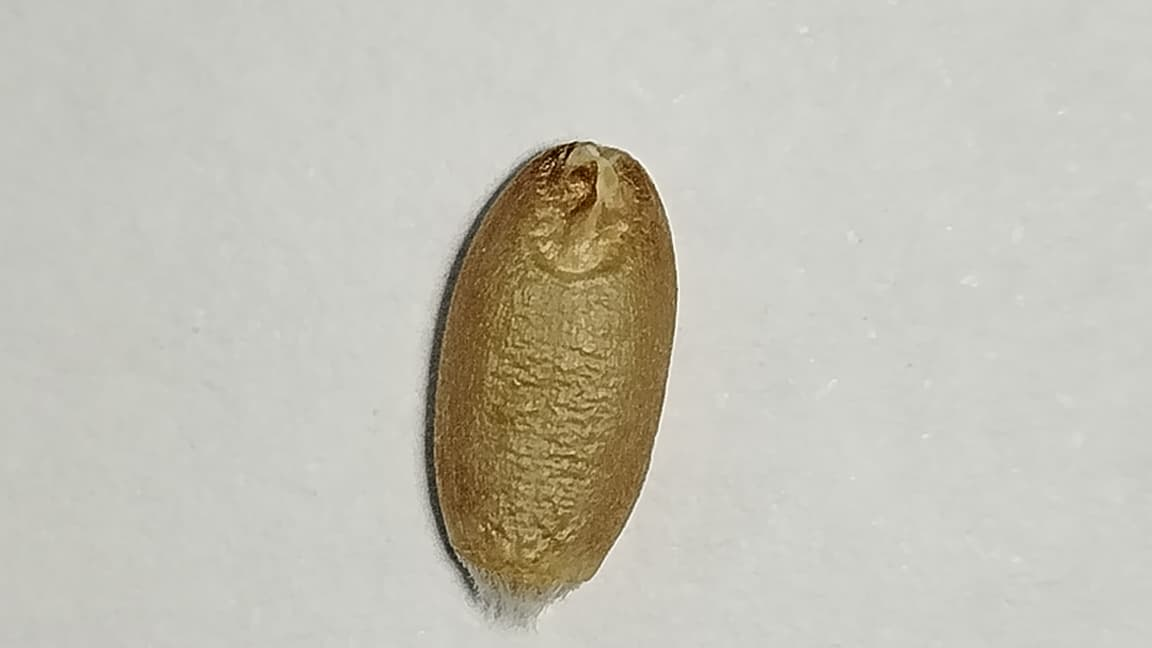healthy: (434, 141, 676, 621)
